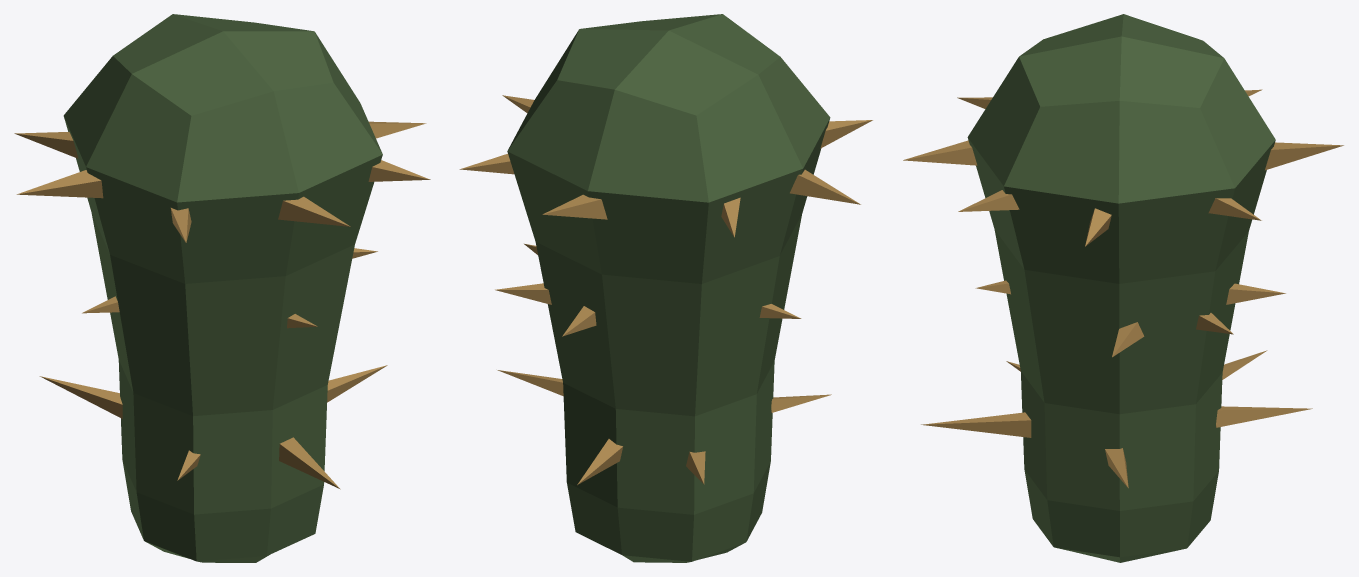
File: cactus_2.glb
3 renders of one model, left to right at view 1: azimuth 30°, elevation 25°; view 2: azimuth 150°, elevation 25°; view 3: azimuth 270°, elevation 25°, orthographic.
Parts seen in each view (by area): view 1: Cactus_2; view 2: Cactus_2; view 3: Cactus_2.
Boxes of the visible parts, x1,y1,x2,y2 form: Cactus_2: (14,14,430,562); Cactus_2: (459,14,872,562); Cactus_2: (903,14,1343,562).
Bounding box in the file's own units: 0.2978 × 0.3779 × 0.3011.
